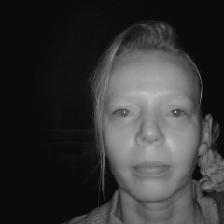normal: (81, 23, 214, 198)
